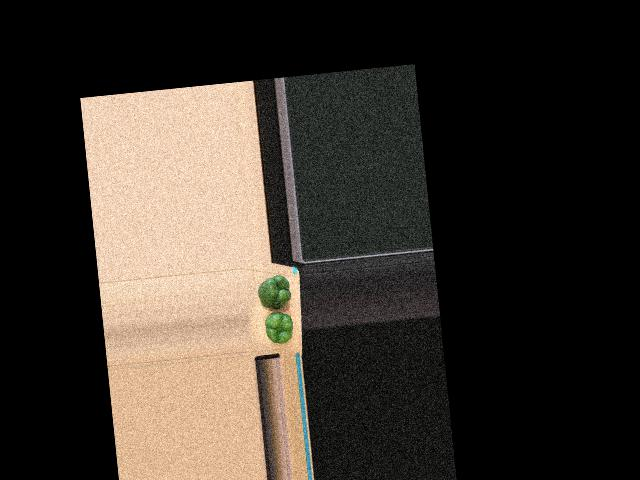bell_pepper: (259, 309, 295, 344)
